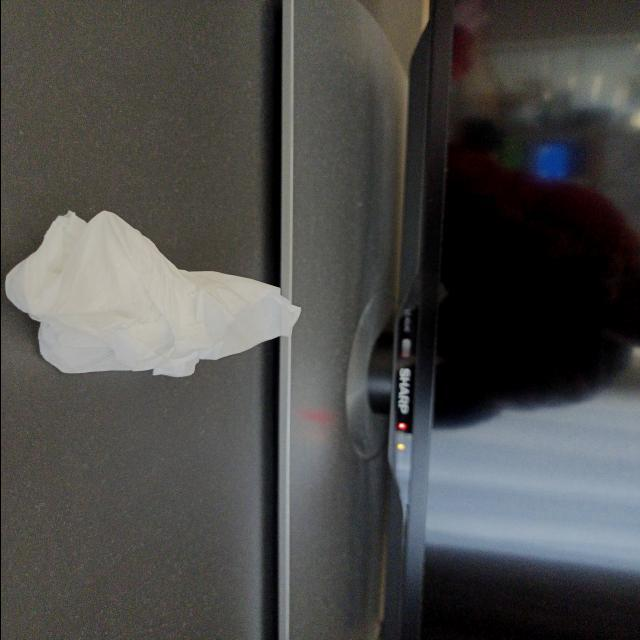Paper: (4, 204, 304, 401)
